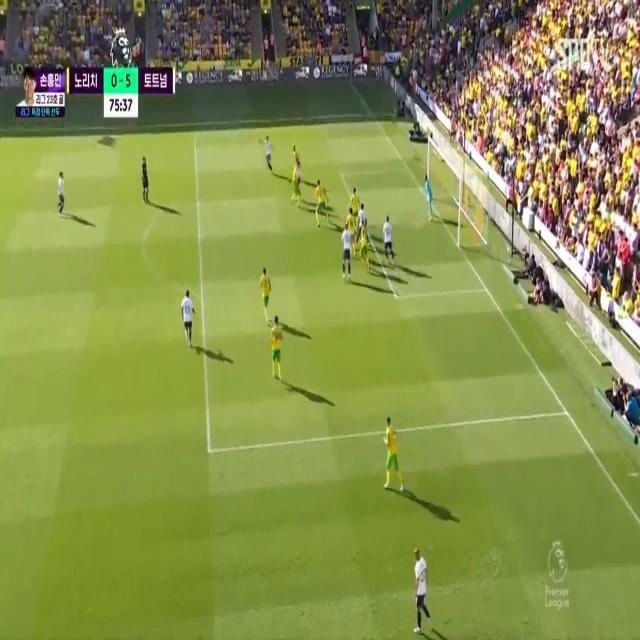player: (413, 547, 433, 624), (381, 418, 396, 492), (312, 175, 328, 229), (179, 290, 193, 349), (382, 210, 396, 266), (270, 318, 284, 367), (341, 225, 353, 282), (53, 165, 66, 217), (258, 268, 272, 314), (262, 131, 276, 176), (359, 228, 371, 268), (290, 164, 302, 198), (344, 210, 358, 234), (357, 201, 365, 230), (351, 186, 359, 213), (294, 145, 300, 171)
referee: (139, 156, 149, 202)
